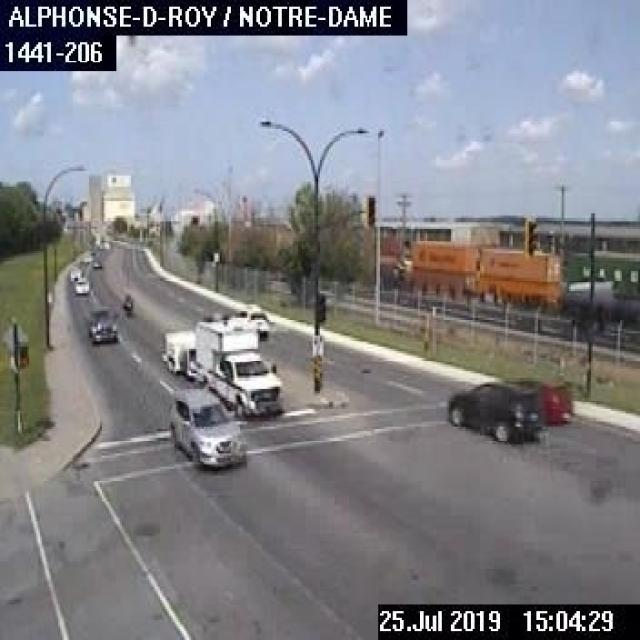vehicle: (161, 313, 285, 422), (163, 384, 248, 471), (444, 370, 542, 444), (499, 369, 573, 425), (224, 302, 274, 340), (84, 306, 118, 344), (69, 270, 92, 294), (118, 289, 133, 318), (65, 264, 80, 279)
